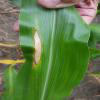Corn leaf blight: (17, 9, 84, 99)
